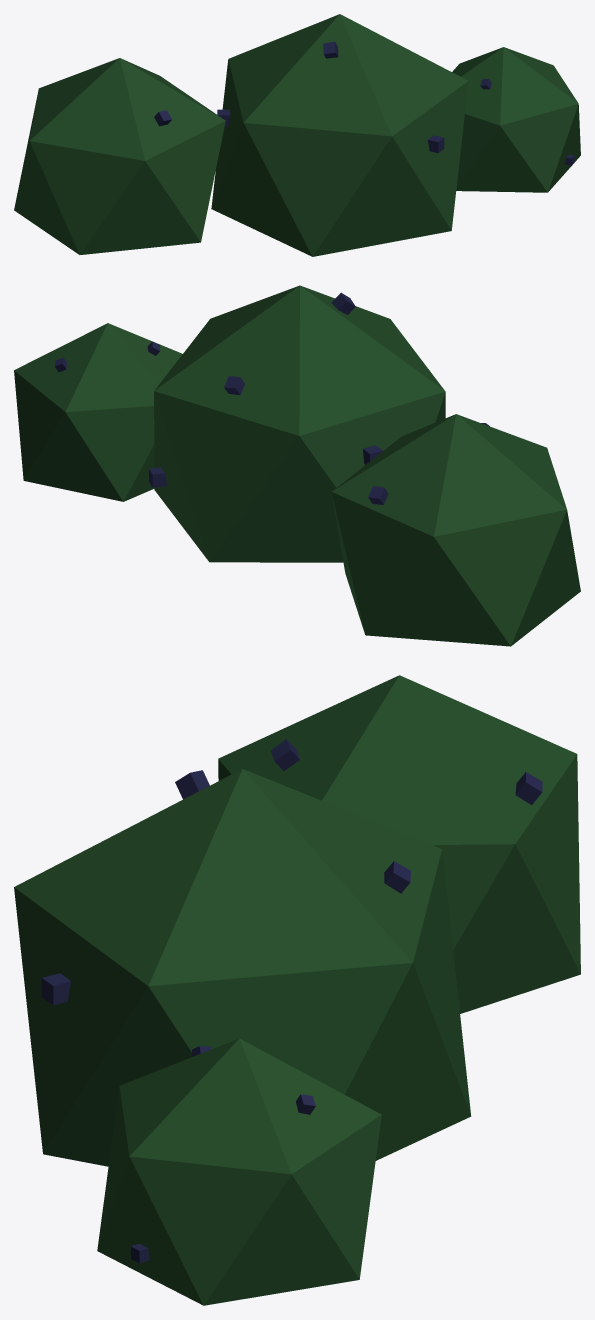
The model's file is ForestBush(2).fbx.
The picture shows the model from 3 angles, top to bottom: view 1: azimuth 30°, elevation 25°; view 2: azimuth 150°, elevation 25°; view 3: azimuth 270°, elevation 25°; orthographic projection. The views are drawn at different scales.
Visible parts, largest first — view 1: ForestBush(2); view 2: ForestBush(2); view 3: ForestBush(2).
Boxes of the visible parts, x1,y1,x2,y2 form: ForestBush(2): (14, 14, 580, 256); ForestBush(2): (14, 285, 580, 646); ForestBush(2): (14, 675, 580, 1305).
Size of the model in its own units: 3.98 by 1.45 by 2.21.
